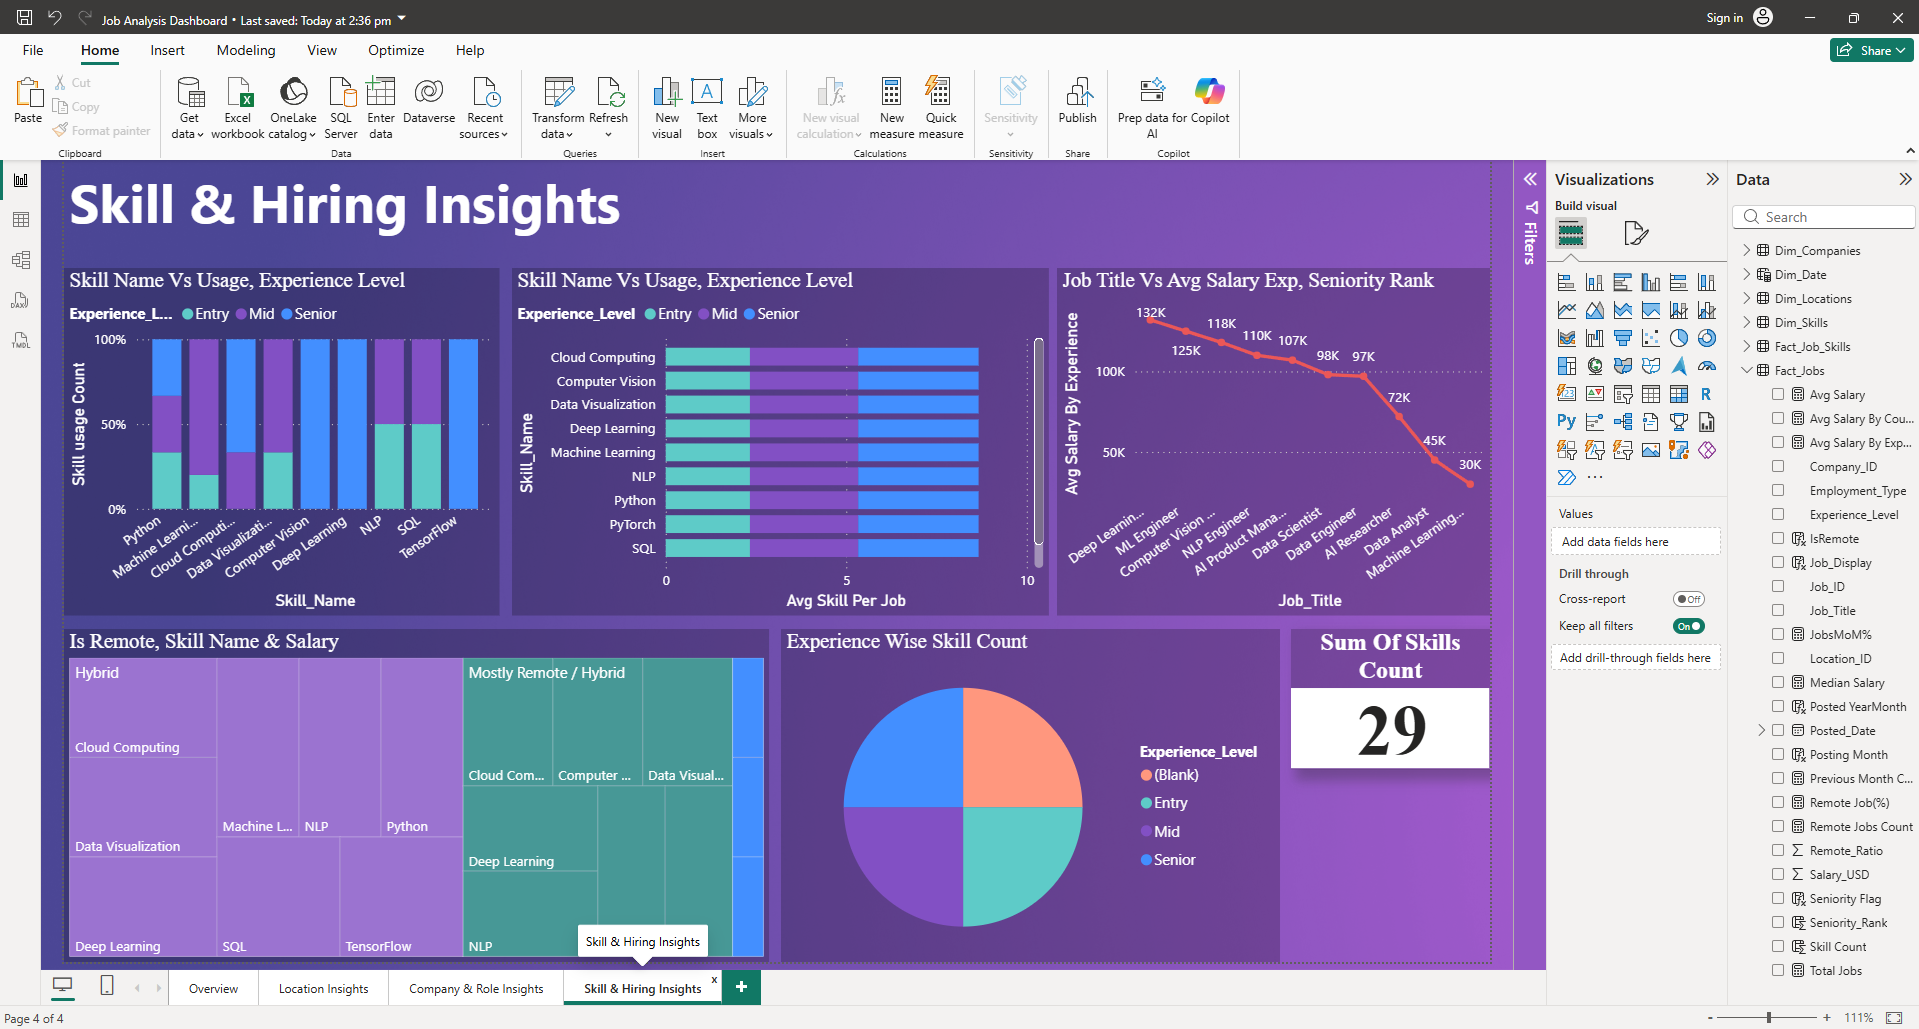

The dashboard page shown, as its layout file describes it:
{"tool":"powerbi","page":{"name":"Skill & Hiring Insights","canvas":[1280,720],"ordinal":3},"visuals":[{"type":"textbox","box":[0,0,618.6,79],"z":0},{"type":"hundredPercentStackedColumnChart","title":"Skill Name Vs Usage, Experience Level","fields":{"Category":["Dim_Skills.Skill_Name"],"Y":["Dim_Skills.Skill usage Count"],"Series":["Fact_Jobs.Experience_Level"]},"box":[0,97,390.5,311.5],"z":1},{"type":"treemap","title":"Is Remote, Skill Name & Salary","fields":{"Group":["Fact_Jobs.IsRemote"],"Details":["Dim_Skills.Skill_Name"],"Values":["Sum(Fact_Jobs.Salary_USD)"]},"box":[0,421,632.9,299],"z":2},{"type":"lineChart","title":"Job Title Vs Avg Salary Exp, Seniority Rank","fields":{"Category":["Fact_Jobs.Job_Title"],"Y":["Fact_Jobs.Avg Salary By Experience"]},"box":[891.5,97,388.7,311.5],"z":3},{"type":"cardVisual","title":"Sum Of Skills Count","fields":{"Data":["Sum(Fact_Jobs.Skill Count)"]},"box":[1101.5,421,178.7,125.7],"z":4},{"type":"barChart","title":"Skill Name Vs Usage, Experience Level","fields":{"Category":["Dim_Skills.Skill_Name"],"Series":["Fact_Jobs.Experience_Level"],"Y":["Fact_Job_Skills.Avg Skill Per Job"]},"box":[402.2,97,482.1,311.5],"z":5},{"type":"pieChart","title":"Experience Wise Skill Count","fields":{"Category":["Fact_Jobs.Experience_Level"],"Y":["CountNonNull(Dim_Skills.Skill_Name)"]},"box":[643.7,421,448,299],"z":6}]}

Visuals, with their boxes on the page's 1280x720 design canvas (x1, y1, x2, y2). These are canvas units, not pixel positions in the 1919x1029 screenshot, which may show the page scaled, cropped or inside an application window:
textbox: [0, 0, 619, 79]
"Skill Name Vs Usage, Experience Level" hundredPercentStackedColumnChart: [0, 97, 390, 408]
"Is Remote, Skill Name & Salary" treemap: [0, 421, 633, 720]
"Job Title Vs Avg Salary Exp, Seniority Rank" lineChart: [892, 97, 1280, 408]
"Sum Of Skills Count" cardVisual: [1102, 421, 1280, 547]
"Skill Name Vs Usage, Experience Level" barChart: [402, 97, 884, 408]
"Experience Wise Skill Count" pieChart: [644, 421, 1092, 720]
